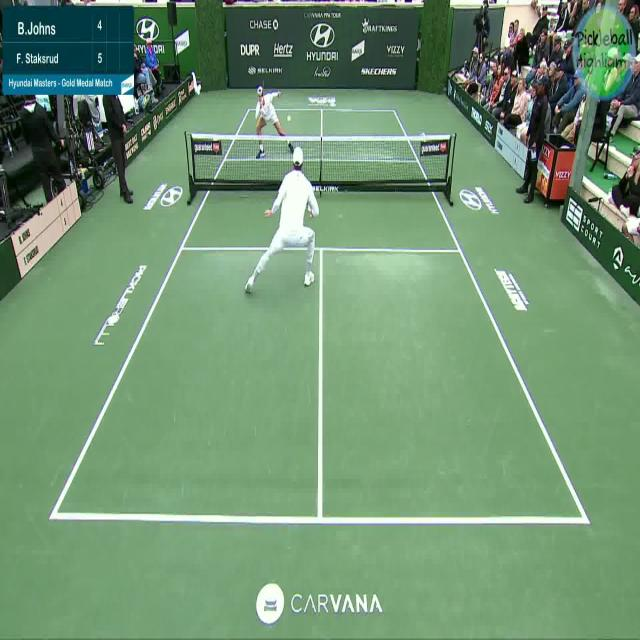Court: (52, 109, 593, 527)
ball: (285, 110, 297, 126)
